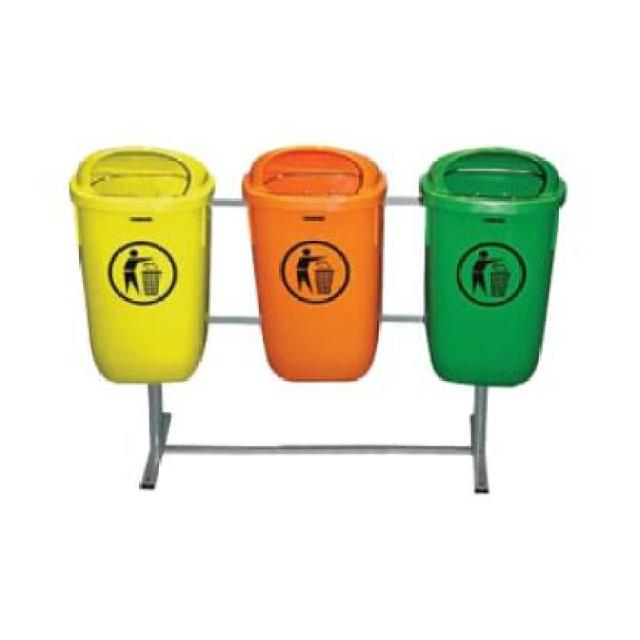garbage container: (57, 134, 231, 394), (227, 136, 393, 398), (412, 138, 572, 400)
